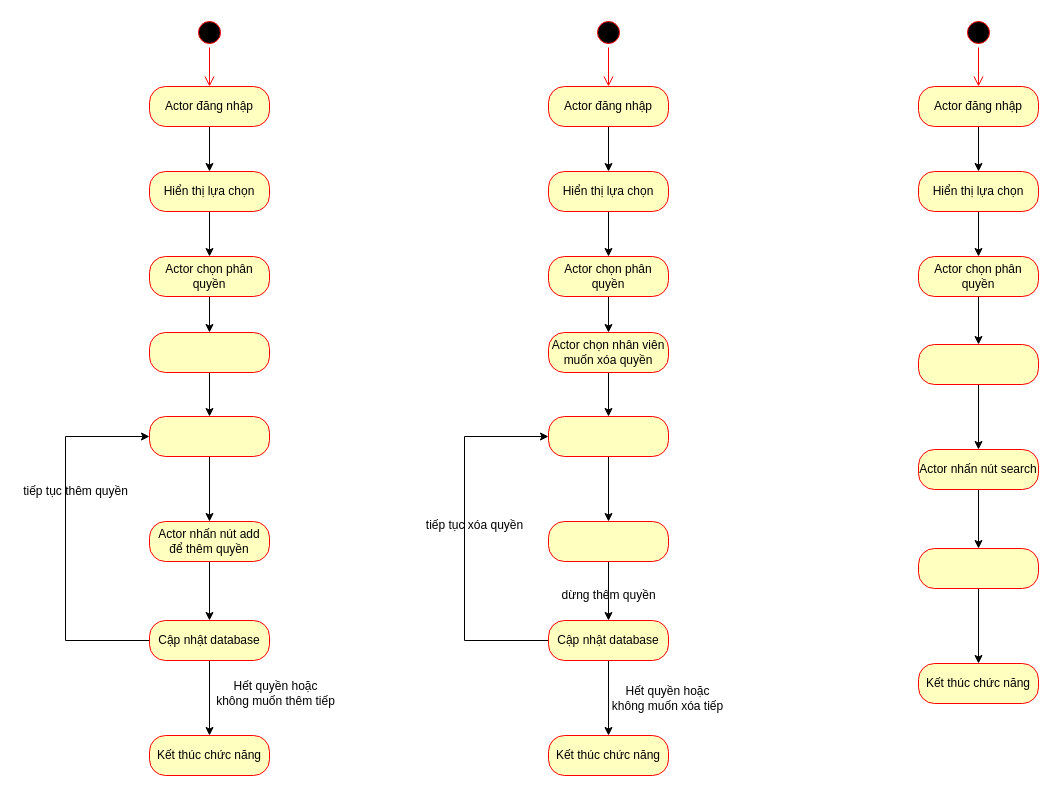
Some shapes in this 1056 by 793 pixel diagram are drawn without their labels. The box of each missing label's shape, as (x1, y1, x2, y2) in pixels:
Actor chọn nhân viên muốn thêm quyền: (148, 332, 270, 372)
Actor chọn quyền muốn thêm cho nhân viên: (148, 416, 270, 456)
Actor chọn quyền muốn xóa: (548, 416, 668, 456)
Actor nhấn nút delete để xóa quyền: (548, 520, 668, 562)
Actor nhập thông tin nhân viên: (918, 344, 1038, 384)
Hiển thị thông tin: (918, 548, 1038, 588)
